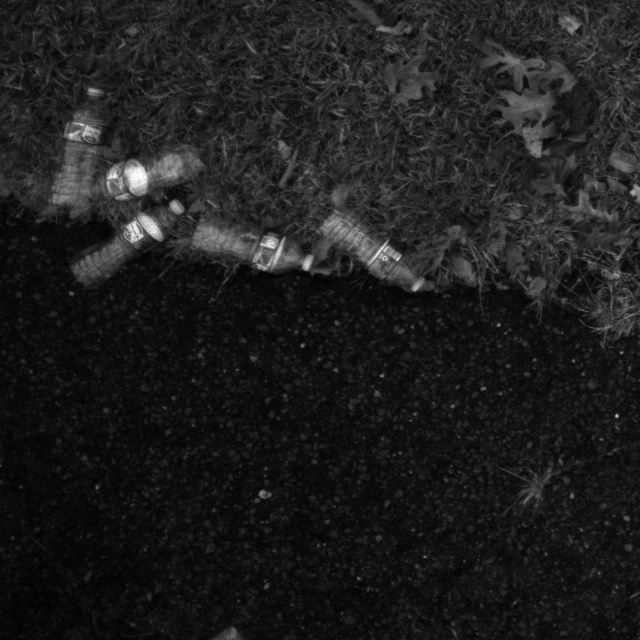bottle: (318, 193, 432, 301), (40, 84, 112, 226), (185, 207, 310, 282), (86, 141, 206, 205), (71, 213, 184, 277)
